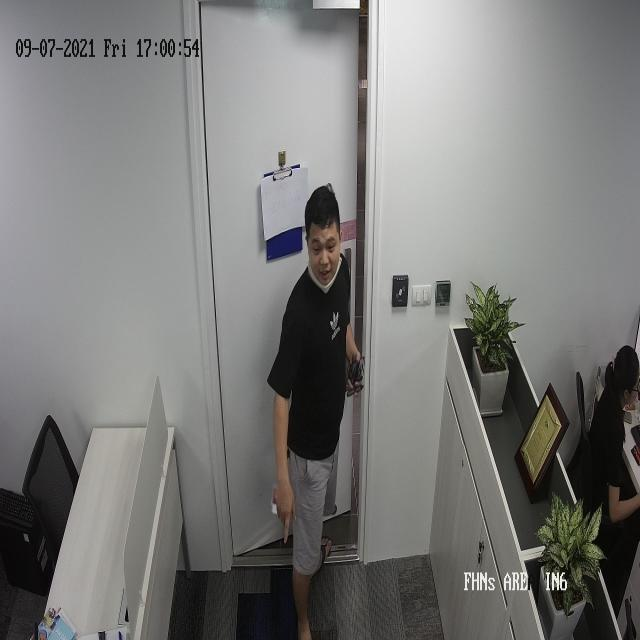hairnet: (308, 228, 340, 296)
